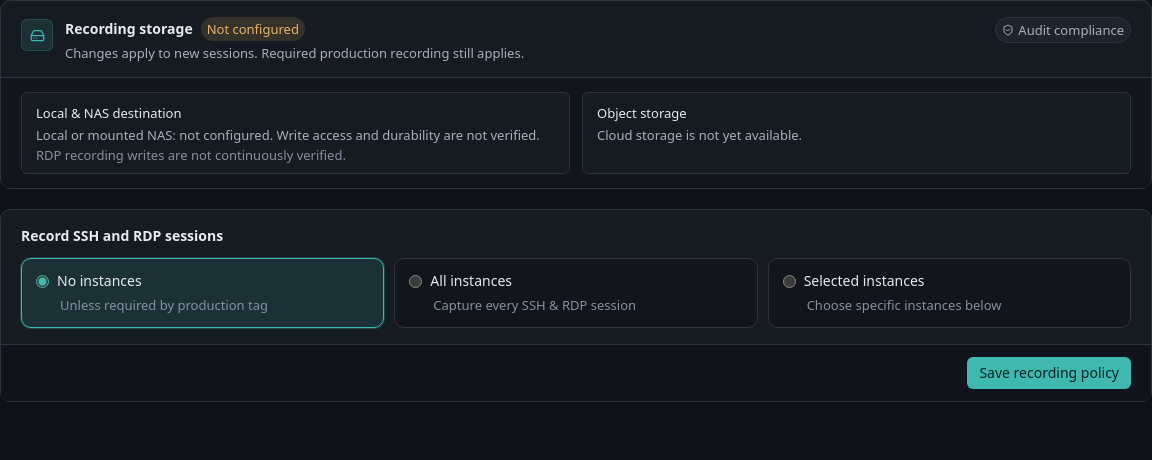
it: warns when recording is enabled without configured storage
Click the radio button labelled "All instances": (416, 281) [409,274,422,288]
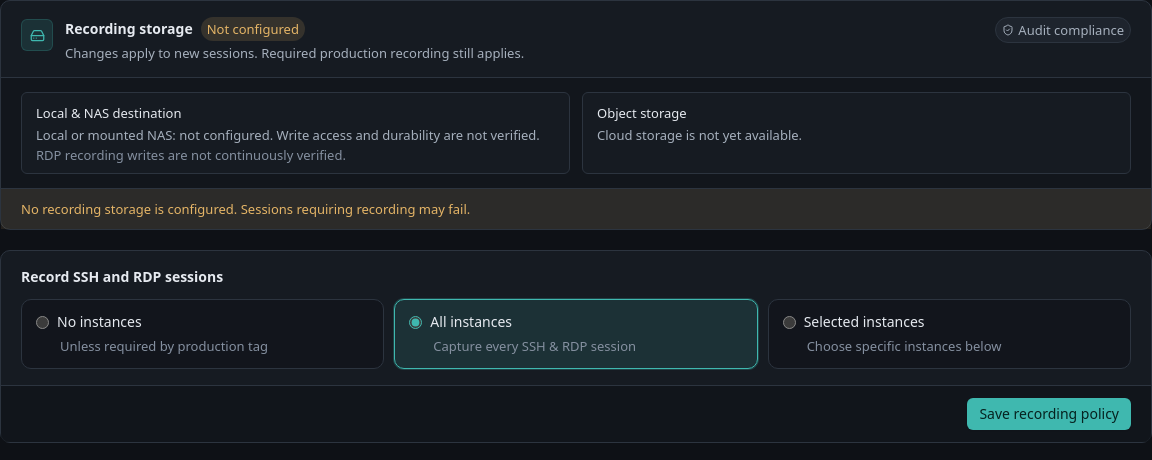
Result: the message shows "No recording storage is configured" at [21,200,237,218]
